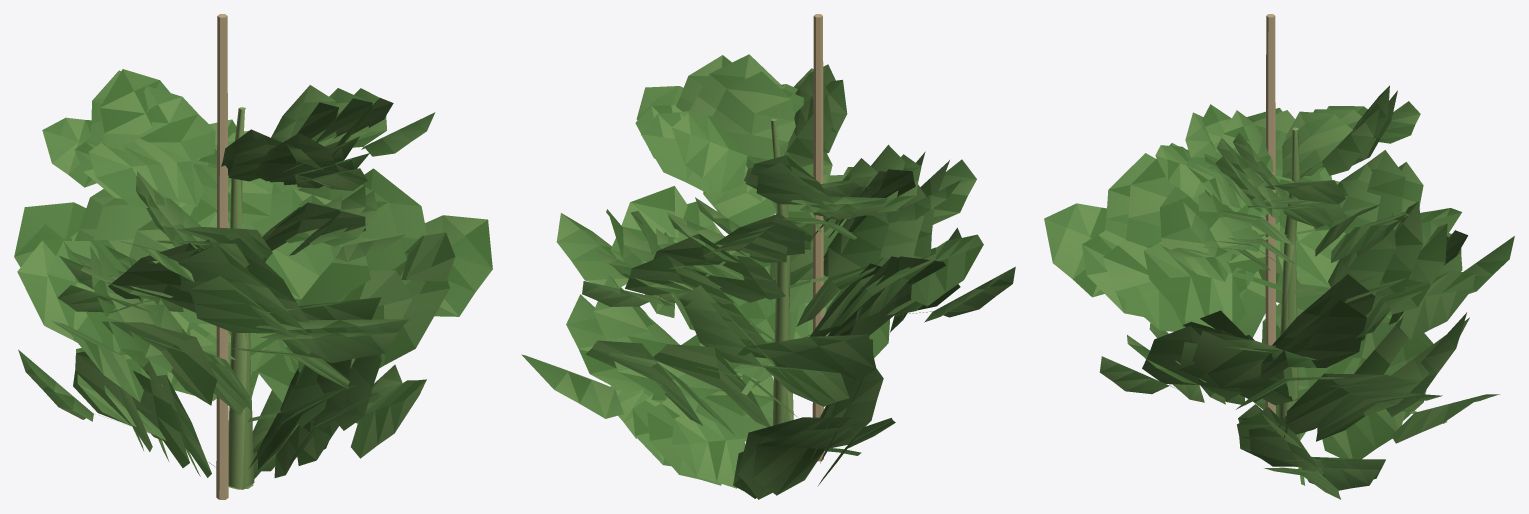
The model's file is tomate_jeune.glb.
3 views of the same model, side by side, from view 1: azimuth 30°, elevation 25°; view 2: azimuth 150°, elevation 25°; view 3: azimuth 270°, elevation 25° (orthographic). The views are drawn at different scales.
Parts seen in each view (by area): view 1: Tomate_Feuilles, Tomate_Tuteur, Tomate_Tige; view 2: Tomate_Feuilles, Tomate_Tuteur, Tomate_Tige; view 3: Tomate_Feuilles, Tomate_Tuteur, Tomate_Tige.
Boxes of the visible parts, left/top/right/bottom form: Tomate_Feuilles: left=14, top=69, right=492, bottom=478; Tomate_Tuteur: left=216, top=14, right=228, bottom=499; Tomate_Tige: left=228, top=107, right=254, bottom=489; Tomate_Feuilles: left=521, top=54, right=1015, bottom=499; Tomate_Tuteur: left=812, top=14, right=823, bottom=461; Tomate_Tige: left=770, top=118, right=793, bottom=425; Tomate_Feuilles: left=1044, top=85, right=1514, bottom=499; Tomate_Tuteur: left=1265, top=14, right=1275, bottom=413; Tomate_Tige: left=1277, top=127, right=1299, bottom=438.
Size of the model in its own units: 0.5148 by 0.5411 by 0.5194.
